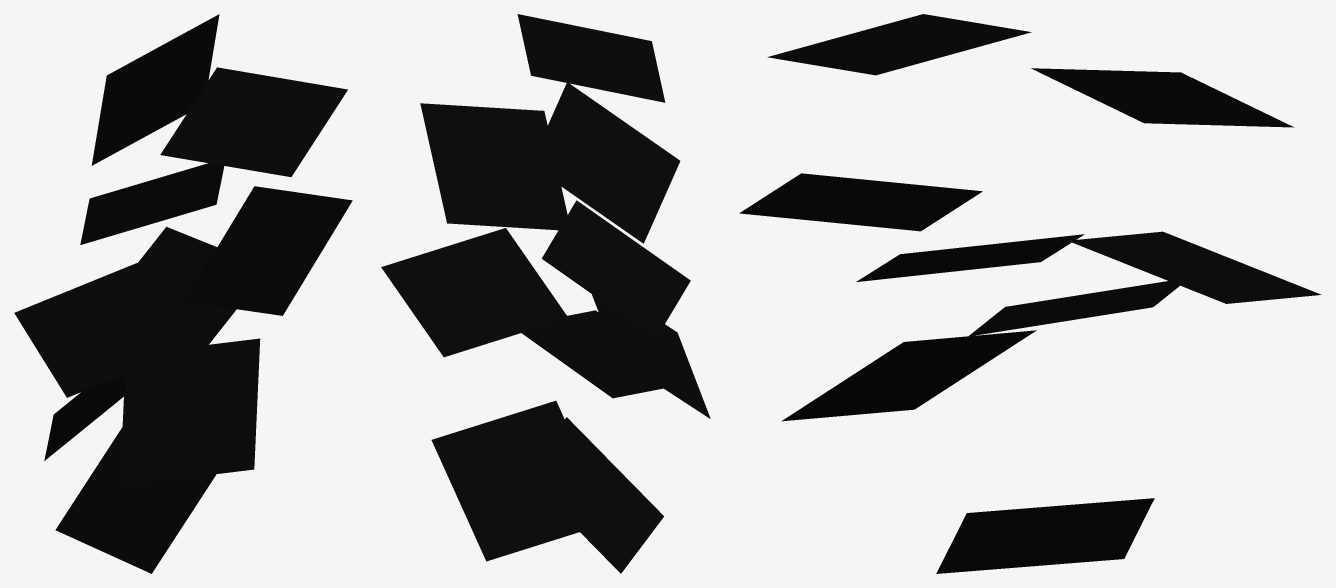
The model's file is LeafClump3MESH_Water_1.fbx.
The picture shows the model from 3 angles, left to right: view 1: azimuth 30°, elevation 25°; view 2: azimuth 150°, elevation 25°; view 3: azimuth 270°, elevation 25°; orthographic projection. The views are drawn at different scales.
Visible parts, largest first — view 1: Leaf_Clump_3; view 2: Leaf_Clump_3; view 3: Leaf_Clump_3.
Boxes of the visible parts, bbox=[...] form: Leaf_Clump_3: bbox=[14, 14, 352, 573]; Leaf_Clump_3: bbox=[381, 14, 710, 573]; Leaf_Clump_3: bbox=[739, 14, 1321, 573].
Bounding box in the file's own units: 49.34 × 89.67 × 77.2.
1 material, 1 textured.
